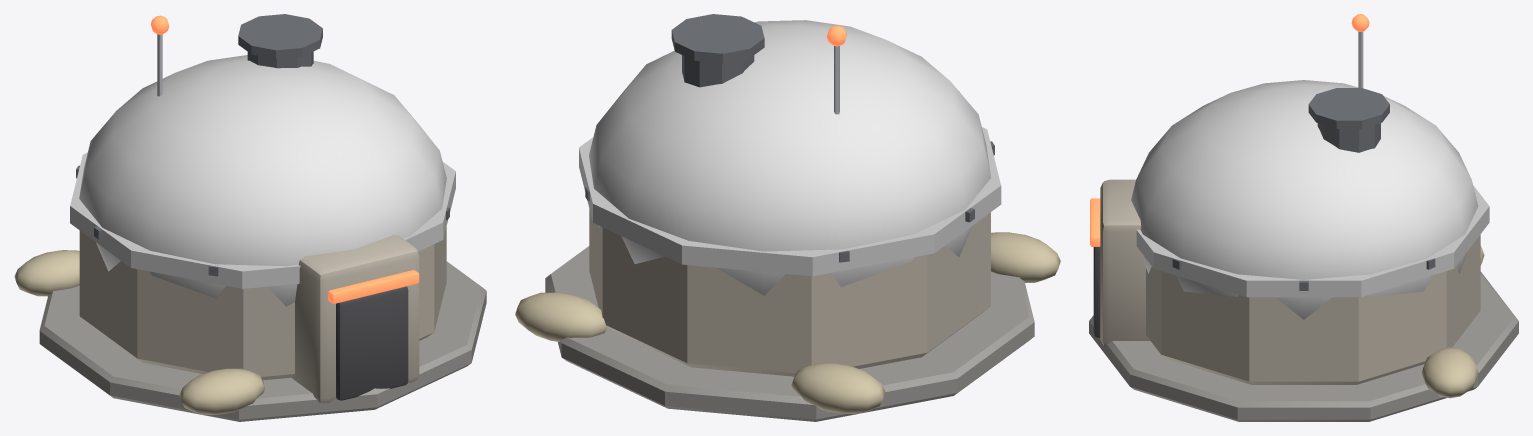
Rendered from hut.glb.
3 views of the same model, side by side, from view 1: azimuth 30°, elevation 25°; view 2: azimuth 150°, elevation 25°; view 3: azimuth 270°, elevation 25° (orthographic). The views are drawn at different scales.
Parts seen in each view (by area): view 1: hut; view 2: hut; view 3: hut.
Boxes of the visible parts, x1,y1,x2,y2 form: hut: [14, 14, 486, 421]; hut: [515, 14, 1060, 421]; hut: [1089, 14, 1518, 421].
Size of the model in its own units: 1.81 by 1.41 by 1.9.
